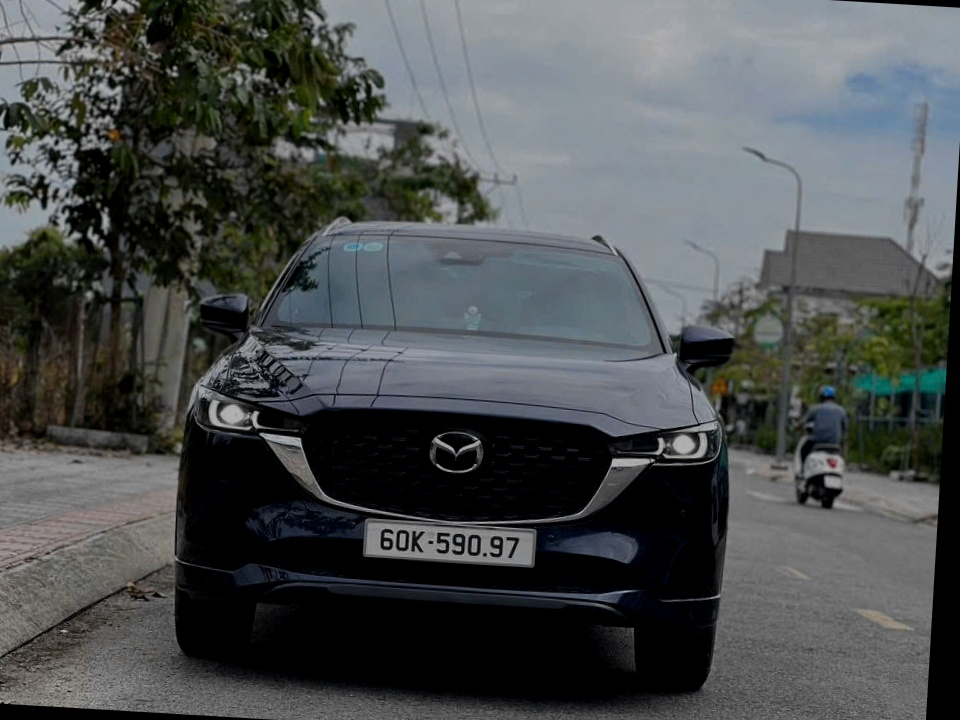Bien-so: (373, 507, 561, 563)
